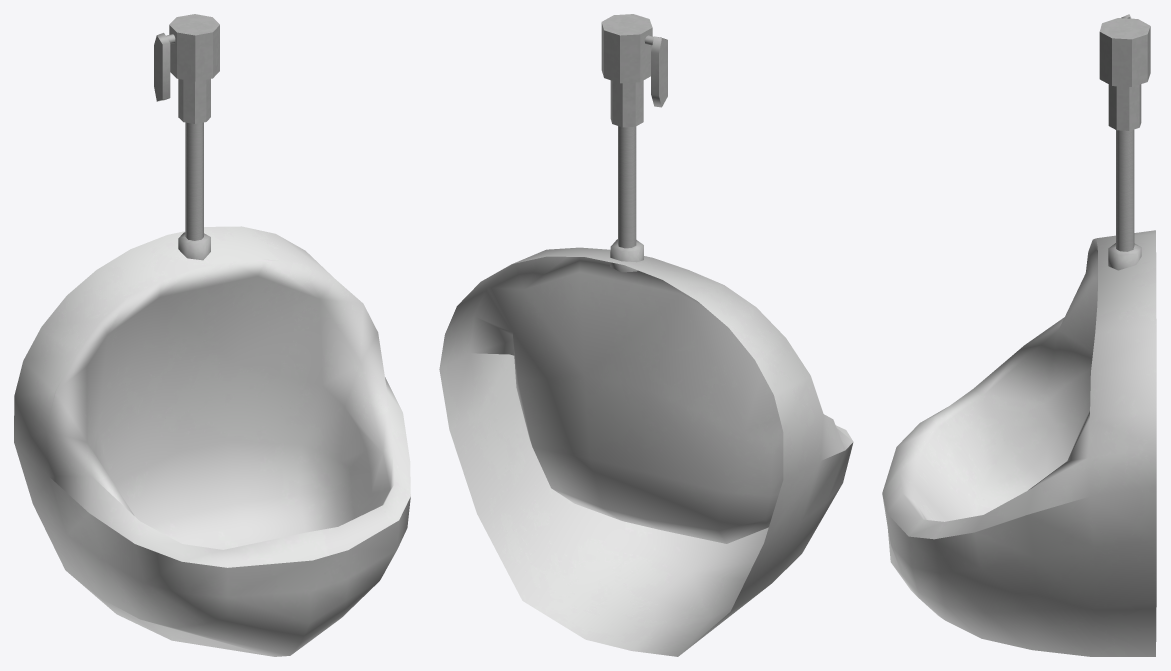
File: Urinal.fbx
3 renders of one model, left to right at view 1: azimuth 30°, elevation 25°; view 2: azimuth 150°, elevation 25°; view 3: azimuth 270°, elevation 25°, orthographic. The views are drawn at different scales.
Visible parts, largest first — view 1: propUrinal; view 2: propUrinal; view 3: propUrinal.
Part boxes in pixels (x1,y1,x2,y2): propUrinal: (14,14,410,656); propUrinal: (439,14,853,656); propUrinal: (882,14,1156,656).
Bounding box in the file's own units: 61.71 × 103 × 42.1.
2 materials, 2 textured.
